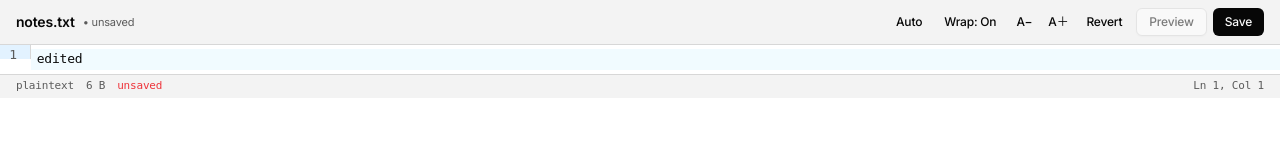
it: FileTextEditor › save conflicts › reloading after a conflict clears the banner and takes the disk version
What coordinates should you click on to do the following:
click the button "Save"
I would click on:
 (1238, 22)
Its box is [1213,8,1264,36].
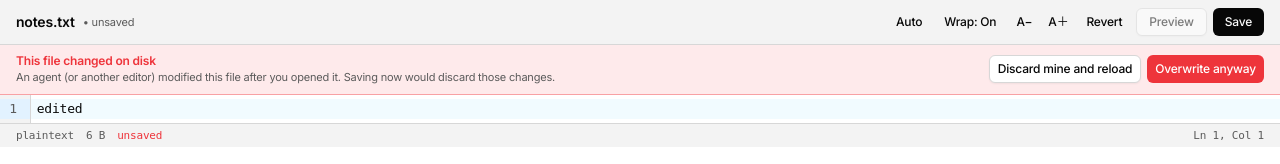
Check: the text "changed on disk" is shown, box [16,53,156,68]
What coordinates should you click on to do the following:
click the button "Discard mine and reload"
I would click on:
 (1065, 69)
Its box is [989,55,1141,83].
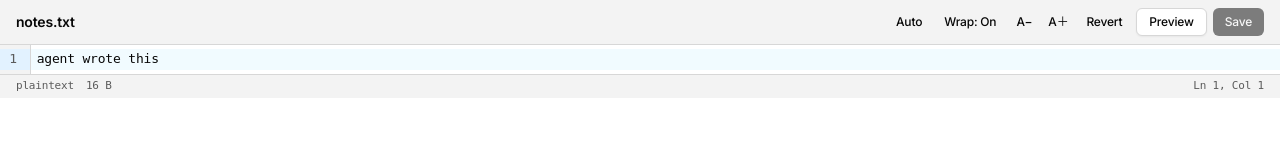
Check: the text "changed on disk" is gone
Check: the text "unsaved" is gone
